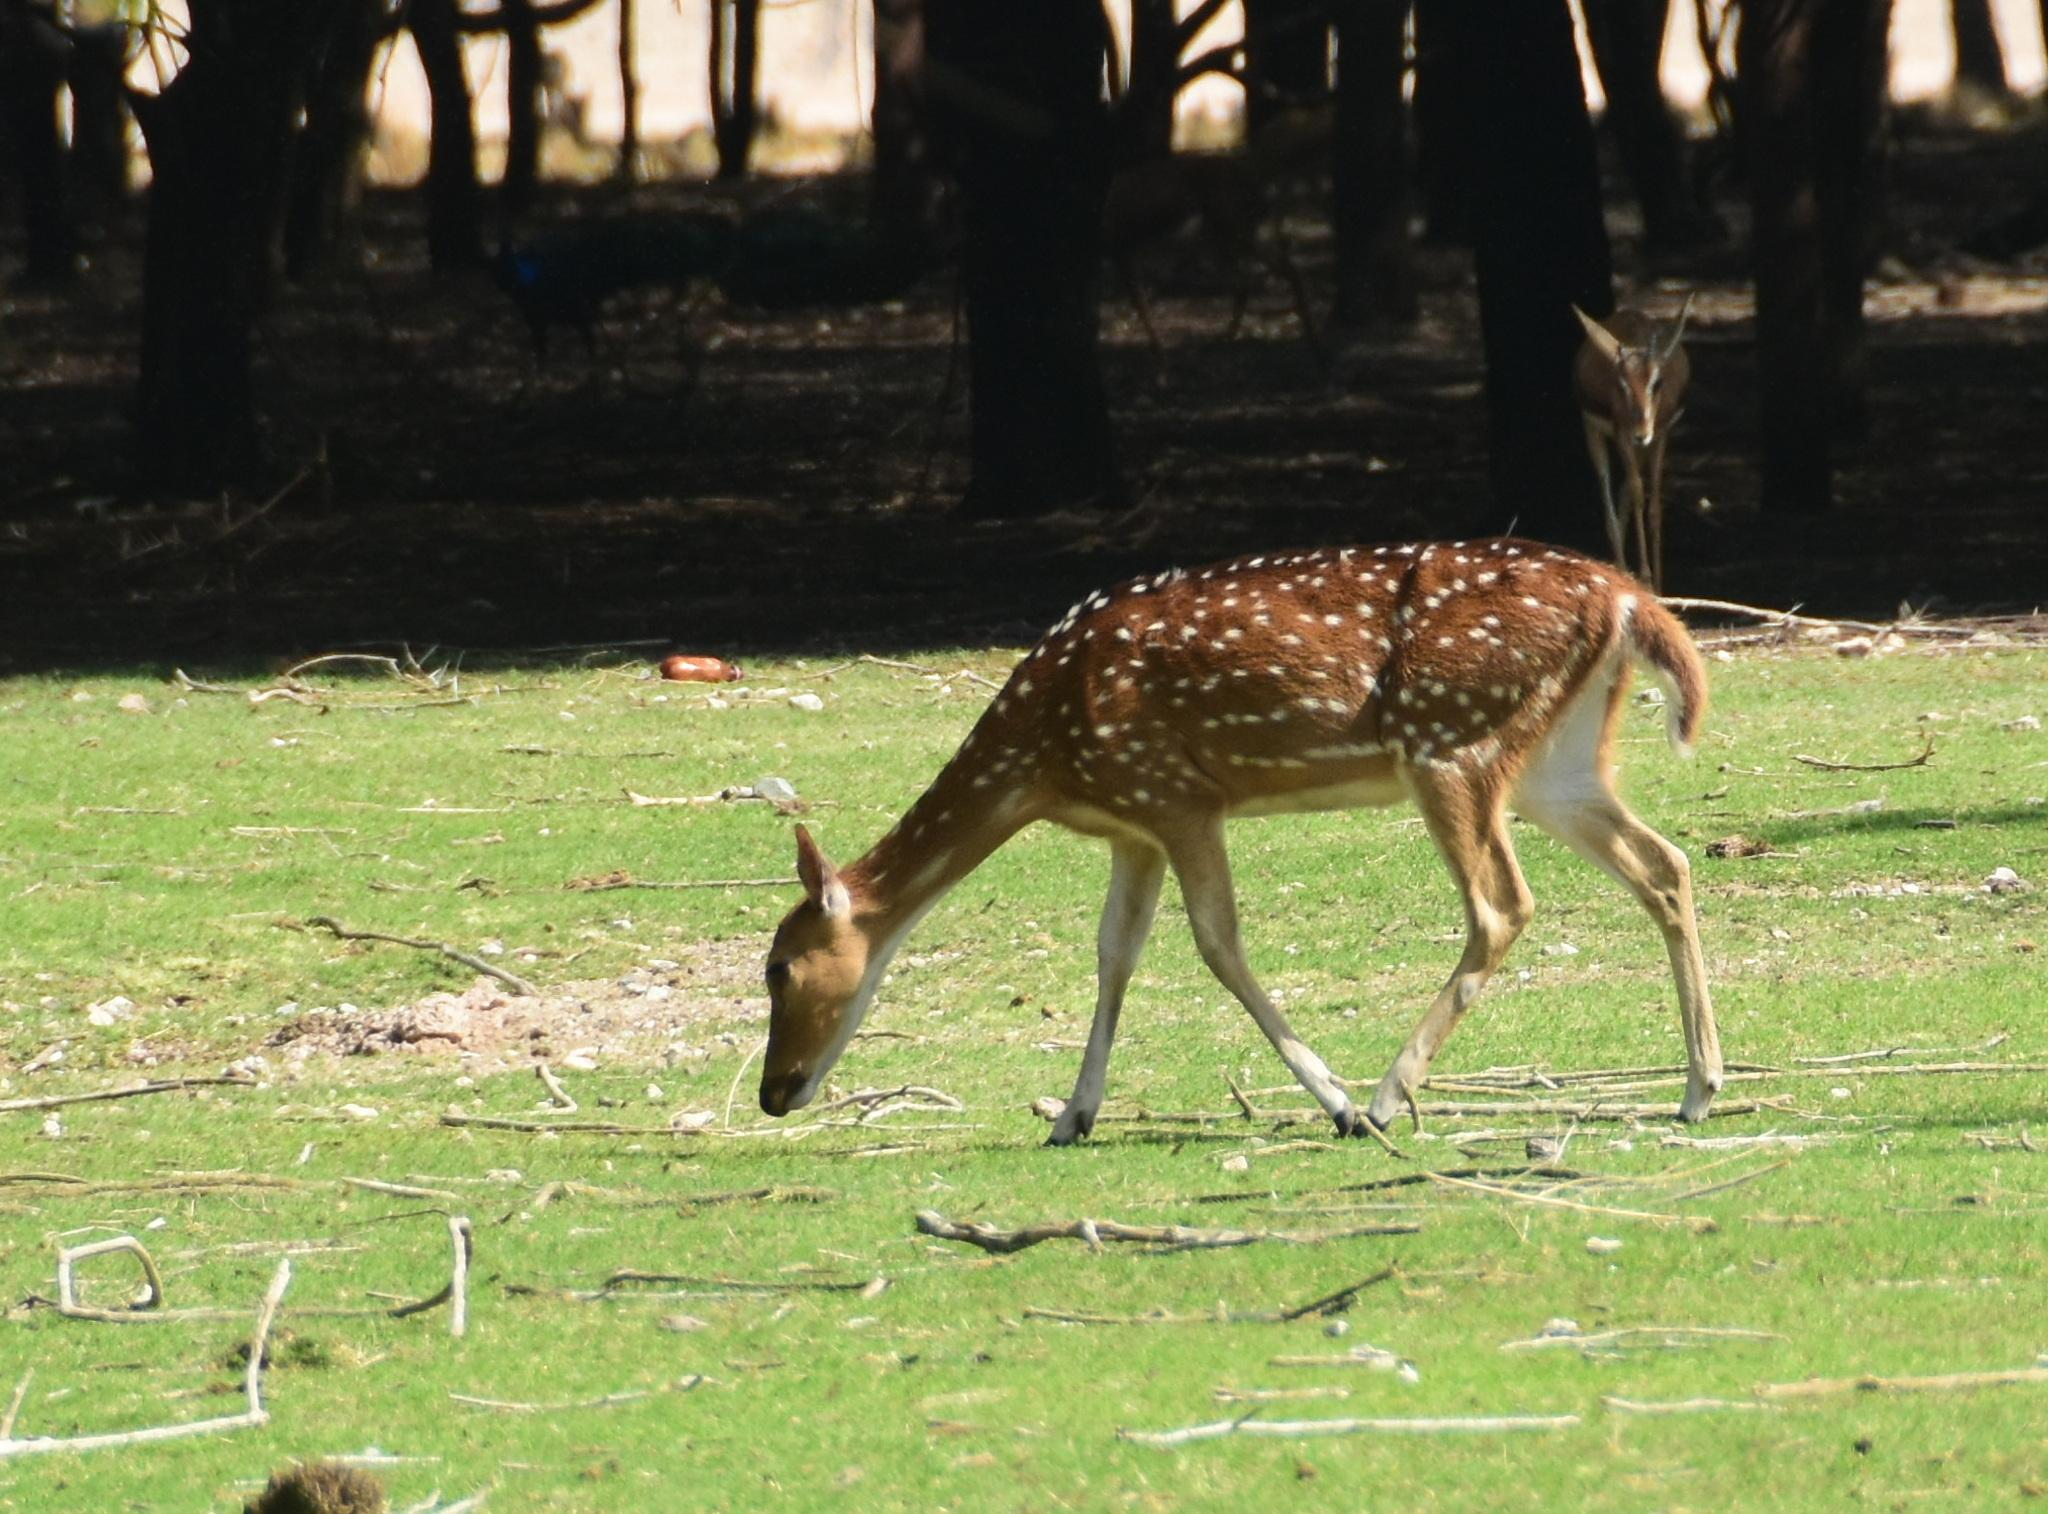Deer: (760, 538, 1722, 1143), (1576, 305, 1689, 584)
